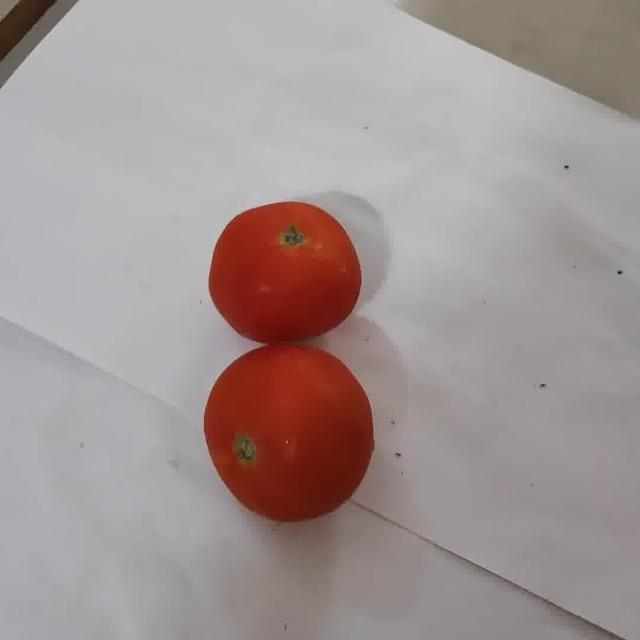Tomato: (204, 346, 374, 520), (209, 202, 360, 344)
